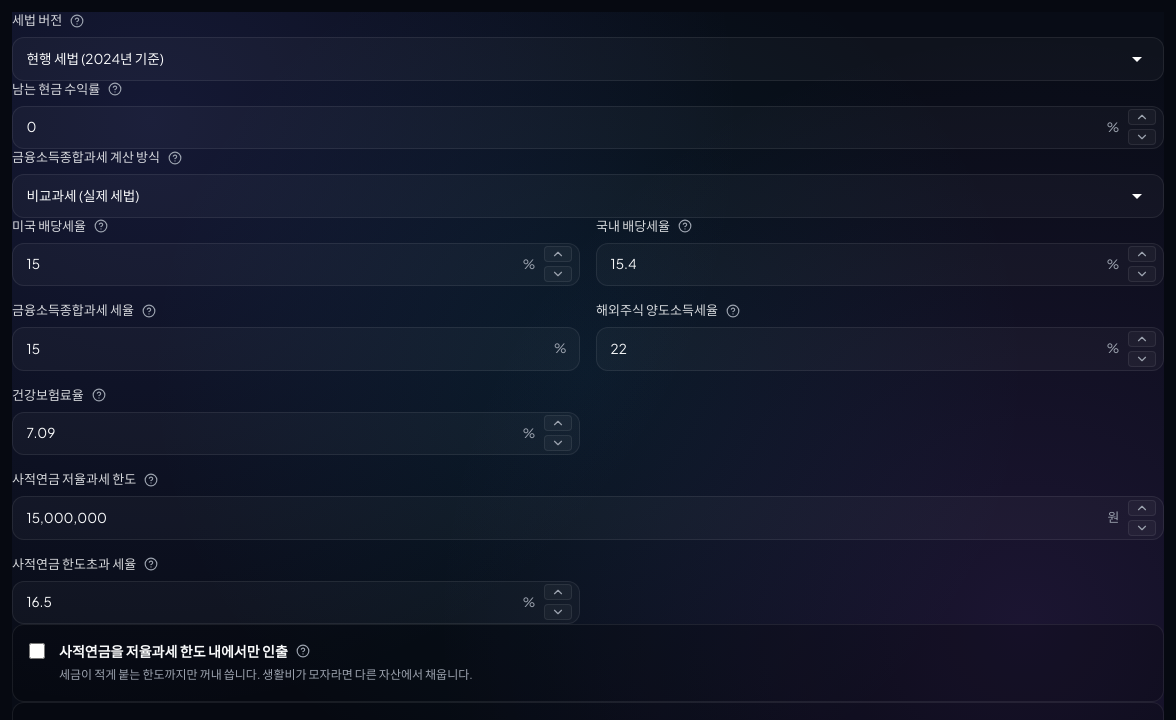
Test: AdvancedSection — 남는 현금 수익률 › 실질 기준일 때는 물가를 뺀다는 사실과 그 물가상승률을 함께 밝힌다
The image size is (1176, 720).
expect the element labelled "남는 현금 수익률" is shown: met, box [12,80,1164,149]
Hover over the icon named "도움말" next to "남는 현금 수익률" at (115, 89), box [108,82,122,96]
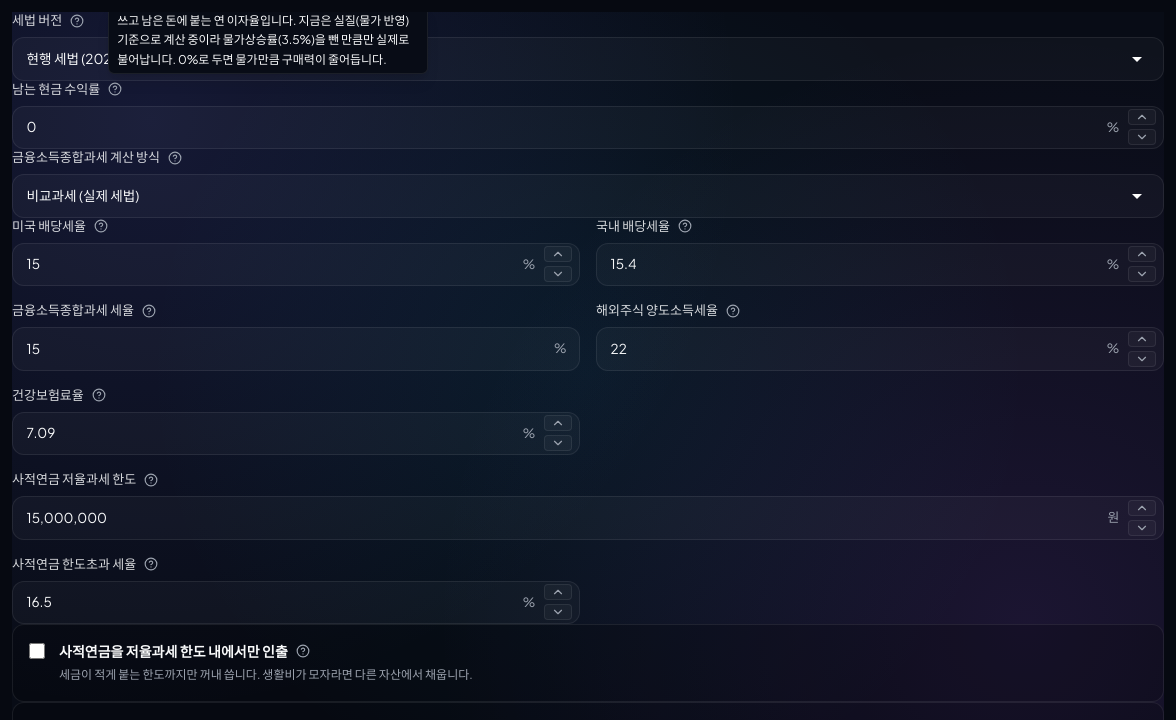
expect the tooltip "0%로 두면 물가만큼 구매력이 줄어듭니다" is shown: met, box [117,13,409,67]
